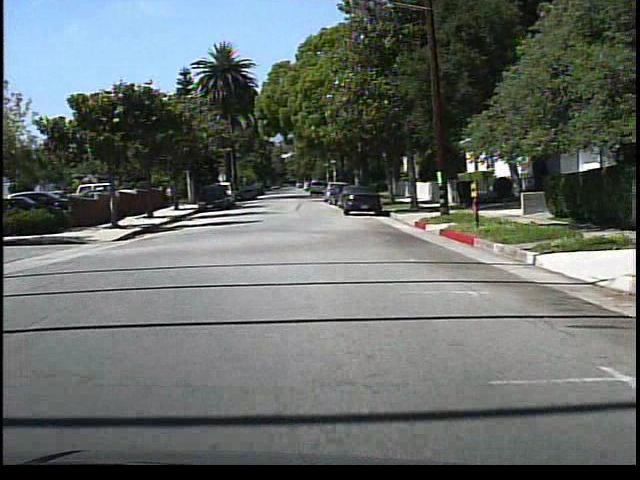person: (164, 181, 178, 208)
